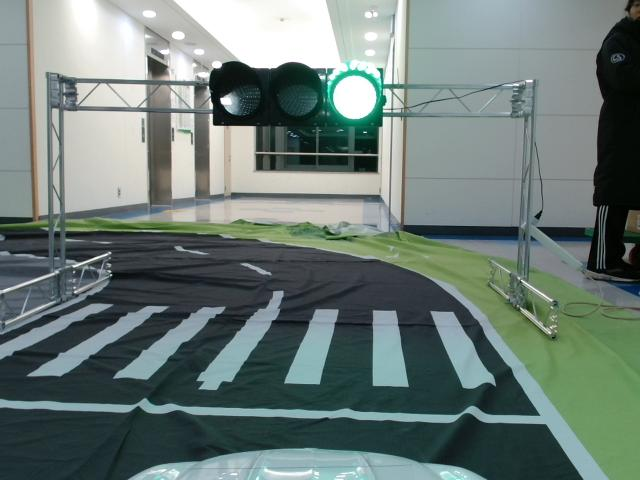crosswalk: (3, 301, 499, 389)
traffic light-green-: (210, 61, 384, 129)
